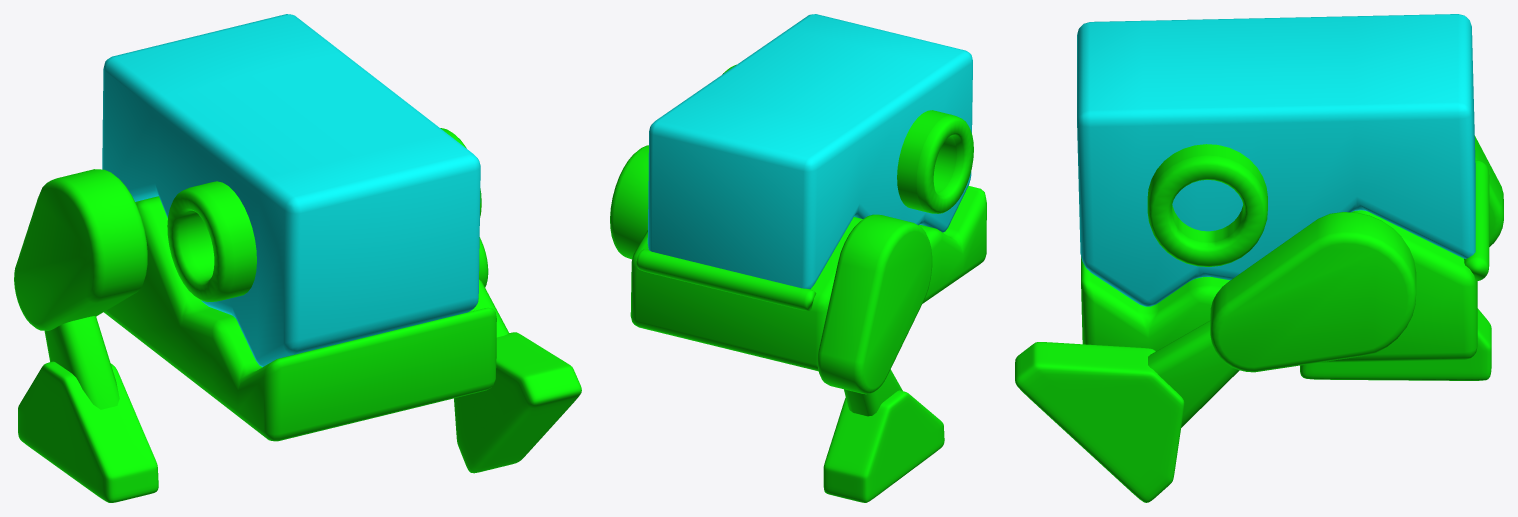
3 renders of one model, left to right at view 1: azimuth 30°, elevation 25°; view 2: azimuth 150°, elevation 25°; view 3: azimuth 270°, elevation 25°, orthographic. The views are drawn at different scales.
Parts seen in each view (by area): view 1: Top_Jaw, Lower_Jaw, Thighs_Left, Feet_Left, Feet_Right, Eyes, Shin_Left; view 2: Top_Jaw, Lower_Jaw, Thighs_Left, Feet_Left, Eyes, Hinge, Thighs_Right, Shin_Left; view 3: Top_Jaw, Thighs_Right, Feet_Right, Lower_Jaw, Eyes, Shin_Right, Feet_Left, Hinge, Thighs_Left.
Part boxes in pixels (x1,y1,x2,y2): Top_Jaw: (102,14,480,367); Lower_Jaw: (104,196,496,441); Thighs_Left: (14,169,147,330); Feet_Left: (18,361,158,502); Feet_Right: (454,332,581,473); Eyes: (167,128,481,301); Shin_Left: (44,316,119,409); Top_Jaw: (647,14,972,289); Lower_Jaw: (630,186,986,371); Thighs_Left: (817,214,932,394); Feet_Left: (823,390,944,502); Eyes: (722,64,973,213); Hinge: (636,249,816,310); Thighs_Right: (610,145,648,259); Shin_Left: (844,369,902,416); Top_Jaw: (1077,14,1475,306); Thighs_Right: (1210,212,1416,372); Feet_Right: (1015,342,1184,502); Lower_Jaw: (1081,210,1477,363); Eyes: (1147,144,1267,266); Shin_Right: (1148,320,1239,427); Feet_Left: (1300,308,1491,380); Hinge: (1464,160,1489,281); Thighs_Left: (1474,135,1503,246).
Size of the model in its own units: 2.03 by 2.14 by 2.47.
